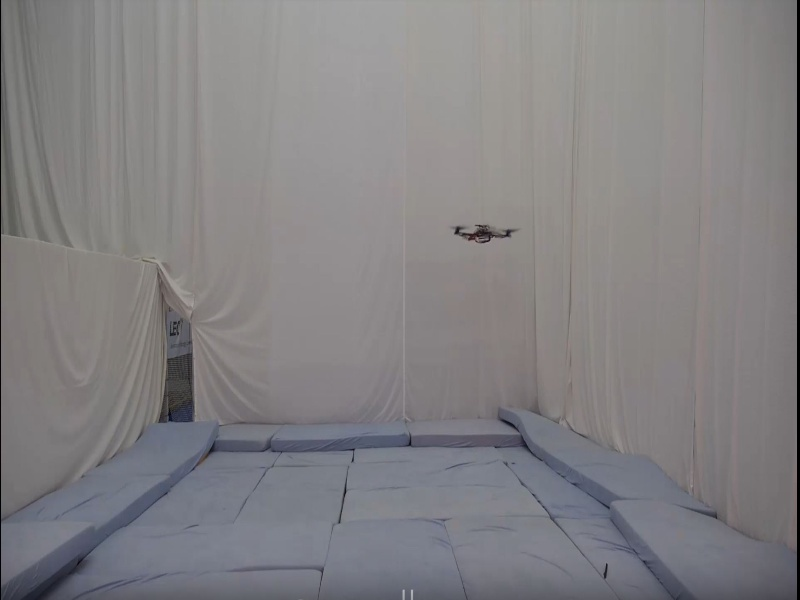drone: (446, 220, 522, 248)
